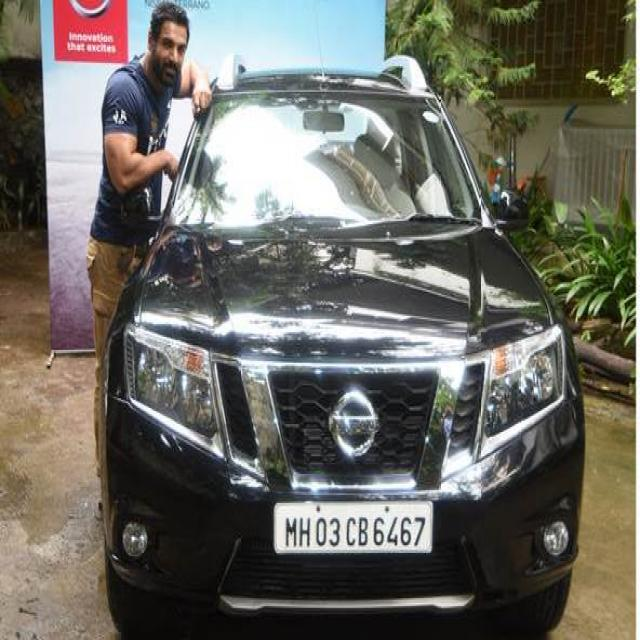Plate: (273, 499, 434, 554)
